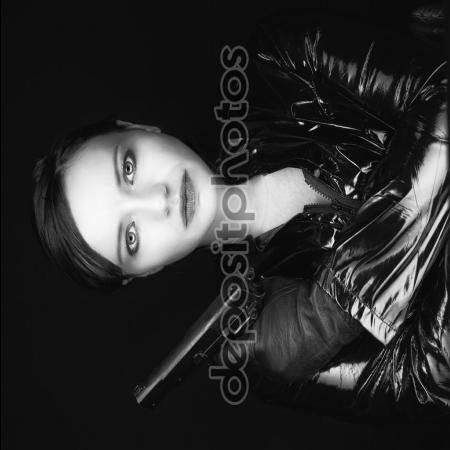Pistol: (131, 266, 266, 413)
